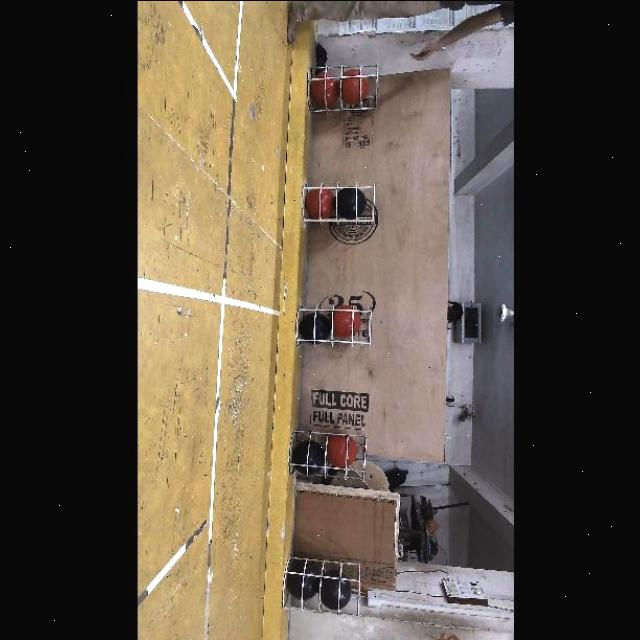P: (320, 572, 352, 608), (289, 564, 321, 598), (295, 442, 325, 474), (337, 187, 367, 219), (300, 312, 332, 341)
R: (325, 434, 357, 468), (332, 304, 362, 336), (312, 72, 340, 106), (341, 70, 369, 104), (306, 187, 334, 219)
S: (276, 552, 368, 616), (310, 61, 382, 120), (304, 180, 382, 230), (296, 300, 378, 342), (296, 430, 370, 476)
